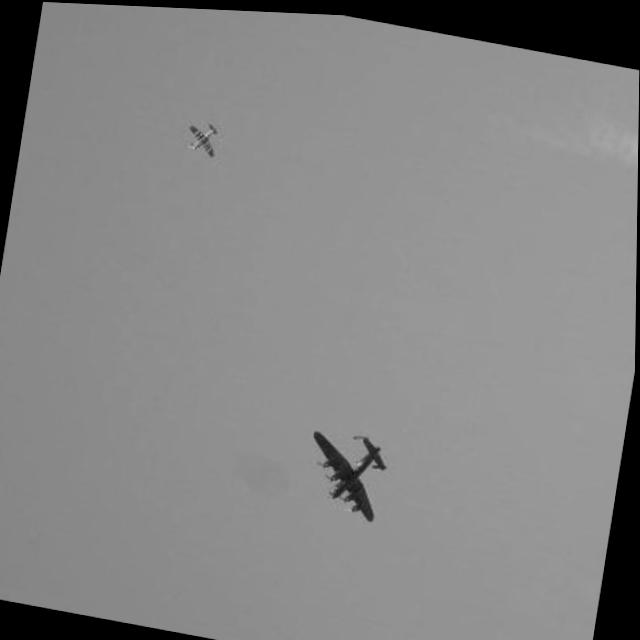aeroplane: (299, 422, 389, 523), (182, 116, 218, 156)
